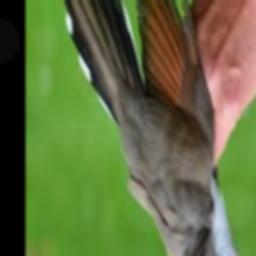Cuckoo: (62, 0, 256, 256)
